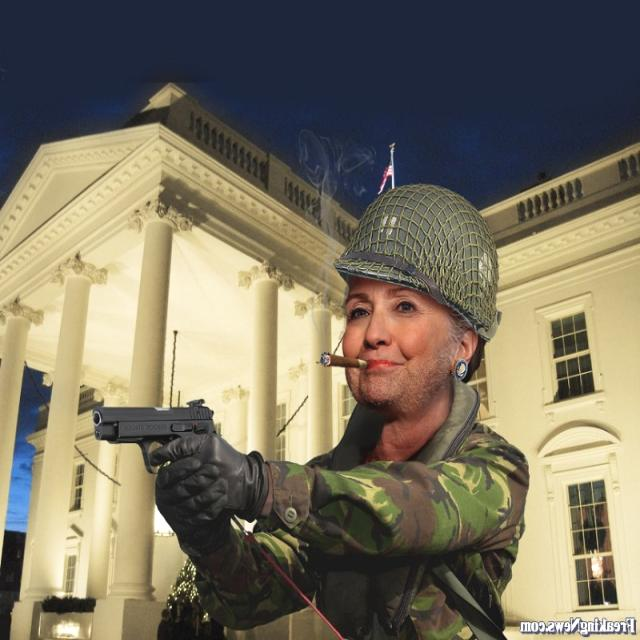pistol: (91, 402, 220, 518)
